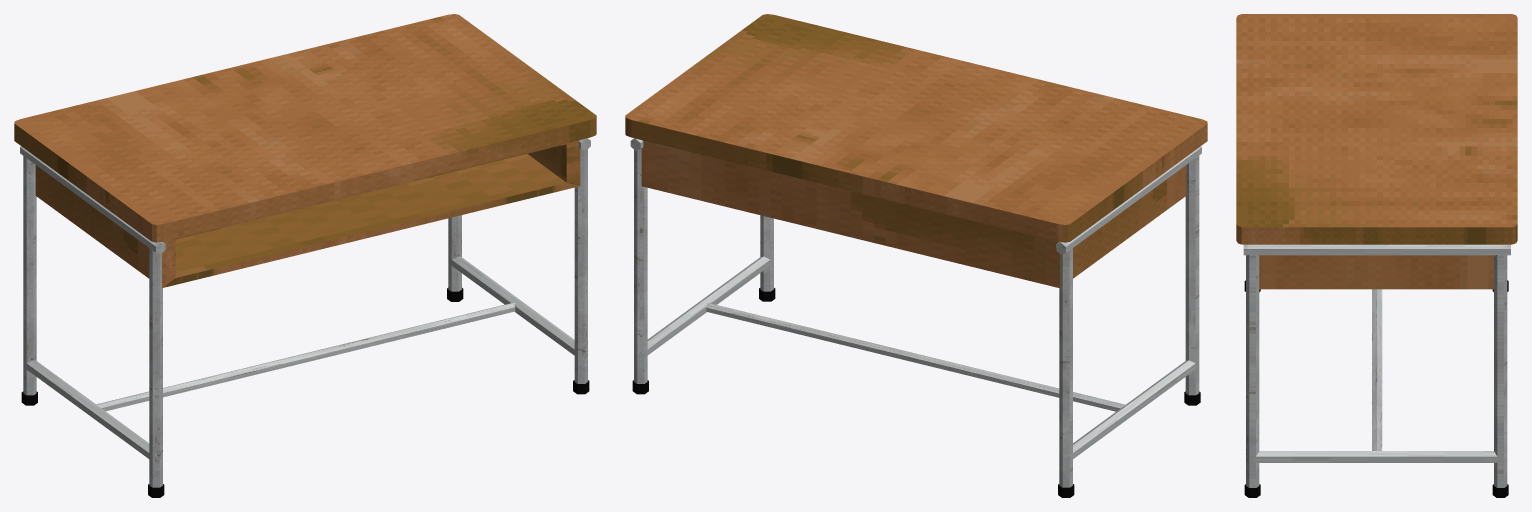
Rendered from Tavolo_2.fbx.
The picture shows the model from 3 angles, left to right: view 1: azimuth 30°, elevation 25°; view 2: azimuth 150°, elevation 25°; view 3: azimuth 270°, elevation 25°; orthographic projection.
Visible parts, largest first — view 1: Cylinder.023; view 2: Cylinder.023; view 3: Cylinder.023.
Boxes of the visible parts, bbox=[...] form: Cylinder.023: bbox=[14, 14, 596, 497]; Cylinder.023: bbox=[625, 14, 1207, 497]; Cylinder.023: bbox=[1236, 14, 1517, 497].
Bounding box in the file's own units: 2 × 1.19 × 1.11.
Materials: 3 (2 with a texture image).
